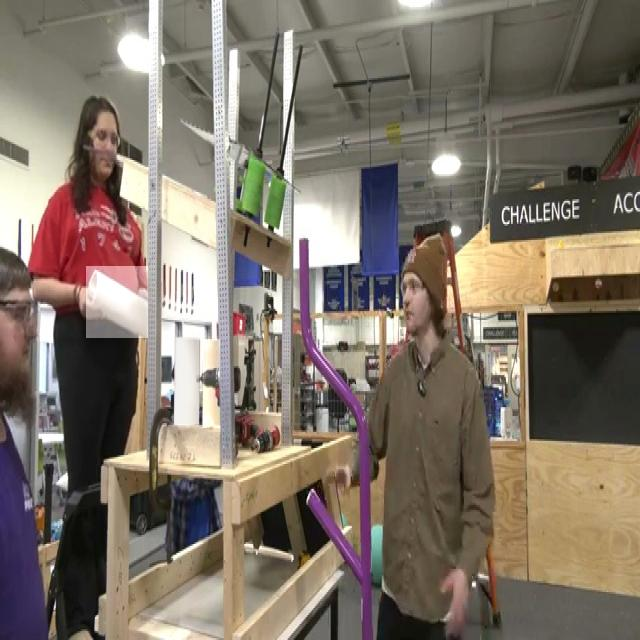Coral: (86, 266, 148, 338), (174, 337, 199, 424), (203, 339, 220, 428)
